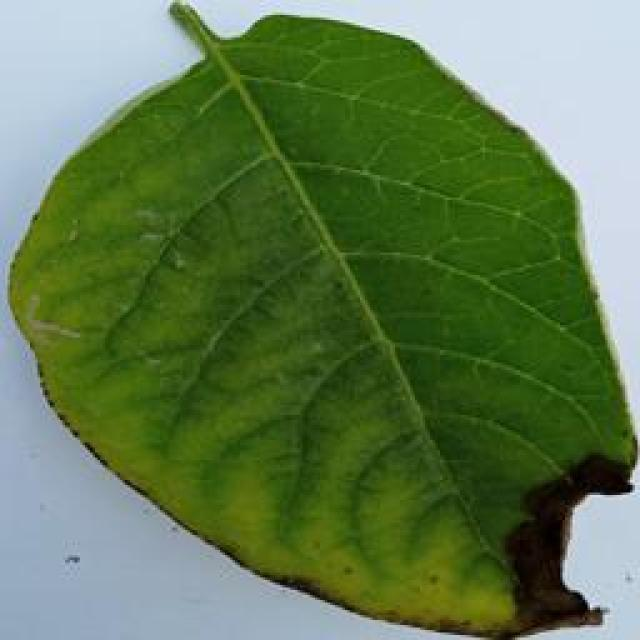Potato_Late_Blight: (8, 5, 624, 634)
